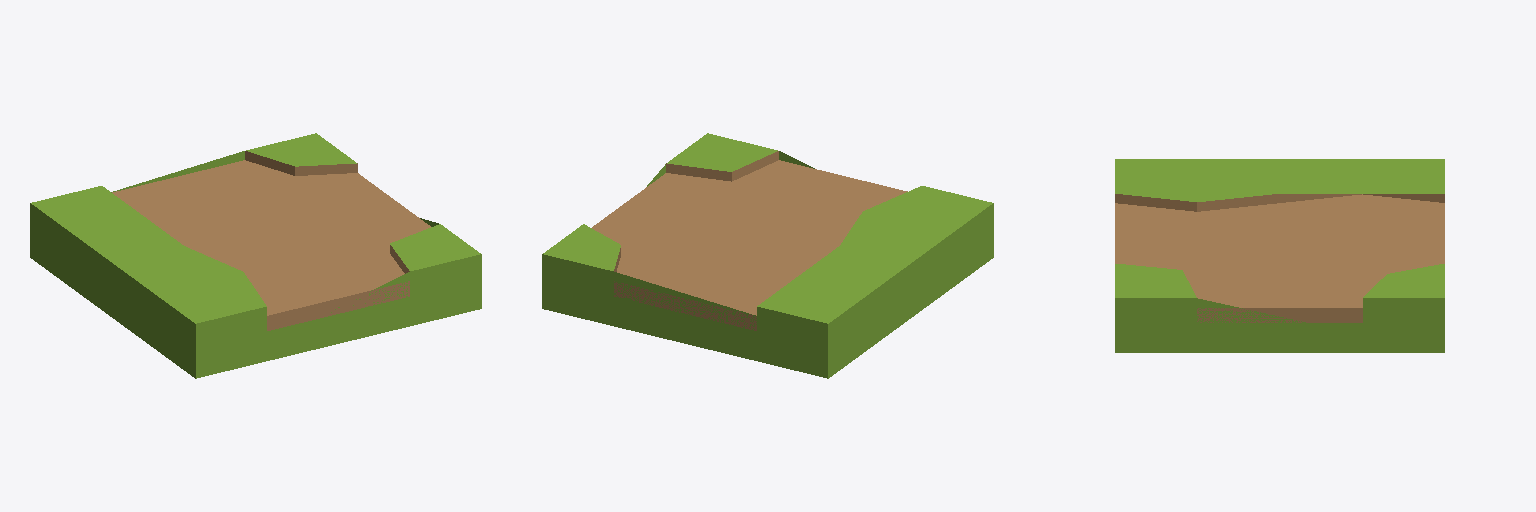
3 renders of one model, left to right at view 1: azimuth 30°, elevation 25°; view 2: azimuth 150°, elevation 25°; view 3: azimuth 270°, elevation 25°, orthographic.
Visible parts, largest first — view 1: roadTile_013.001; view 2: roadTile_013.001; view 3: roadTile_013.001.
Part boxes in pixels (bbox=[...]): roadTile_013.001: bbox=[30, 133, 481, 378]; roadTile_013.001: bbox=[542, 133, 993, 378]; roadTile_013.001: bbox=[1115, 159, 1444, 352].
Size of the model in its own units: 3 by 0.55 by 3.